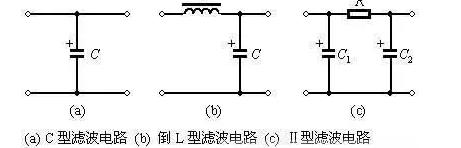cap1: (68, 47, 87, 61), (381, 47, 399, 61), (231, 47, 250, 60), (319, 48, 338, 60)
inductance: (178, 1, 226, 18)
res1: (345, 7, 373, 21)
